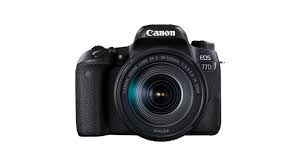camera: (76, 36, 221, 137)
